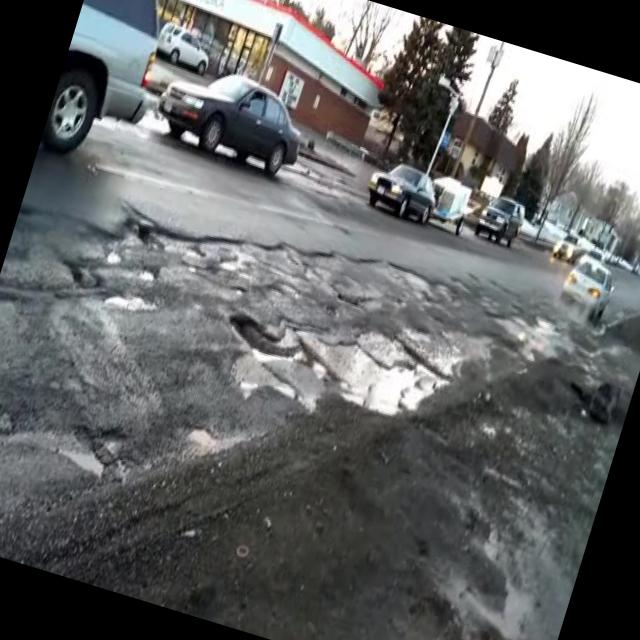Potholes: (191, 269, 448, 447), (0, 382, 126, 581), (56, 181, 191, 333), (397, 565, 567, 640), (400, 268, 496, 324)
